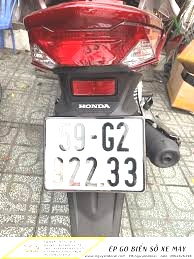Bien-so: (39, 114, 146, 202)
